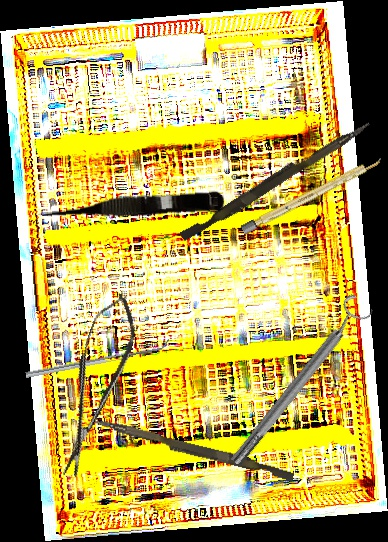Fixation Ring: (220, 291, 377, 473)
Micro Scissor: (42, 288, 148, 483), (36, 186, 225, 224)
Pusher: (179, 113, 372, 247), (89, 416, 296, 483)
Scalpel Handle: (240, 155, 384, 235)
Spatula Surgical: (24, 339, 171, 378)
